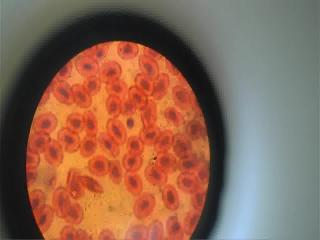cell: (66, 169, 85, 200), (134, 197, 159, 216), (140, 55, 160, 78), (34, 114, 60, 131), (51, 192, 68, 218), (162, 184, 180, 208), (164, 216, 182, 240), (148, 166, 168, 187), (79, 57, 101, 76), (60, 129, 79, 151), (99, 131, 118, 153), (134, 74, 154, 94), (164, 107, 185, 126), (179, 174, 201, 192), (174, 85, 191, 108), (183, 209, 200, 232), (73, 85, 89, 109), (118, 42, 139, 60), (157, 75, 171, 102), (108, 118, 126, 139), (175, 134, 193, 155), (29, 187, 47, 208), (47, 141, 62, 166), (82, 134, 100, 154), (88, 156, 108, 174), (176, 159, 206, 171), (155, 154, 176, 171), (83, 109, 98, 132), (37, 210, 54, 230), (142, 102, 158, 122), (126, 172, 142, 192), (102, 65, 124, 79), (193, 187, 207, 209), (57, 84, 73, 103), (107, 82, 128, 96), (148, 219, 162, 240), (127, 225, 146, 240), (130, 88, 144, 108), (30, 135, 50, 149), (84, 77, 100, 94), (68, 114, 84, 131), (125, 156, 144, 170), (110, 161, 122, 183), (126, 139, 143, 154), (106, 98, 120, 115), (142, 128, 158, 142), (161, 131, 173, 149)
